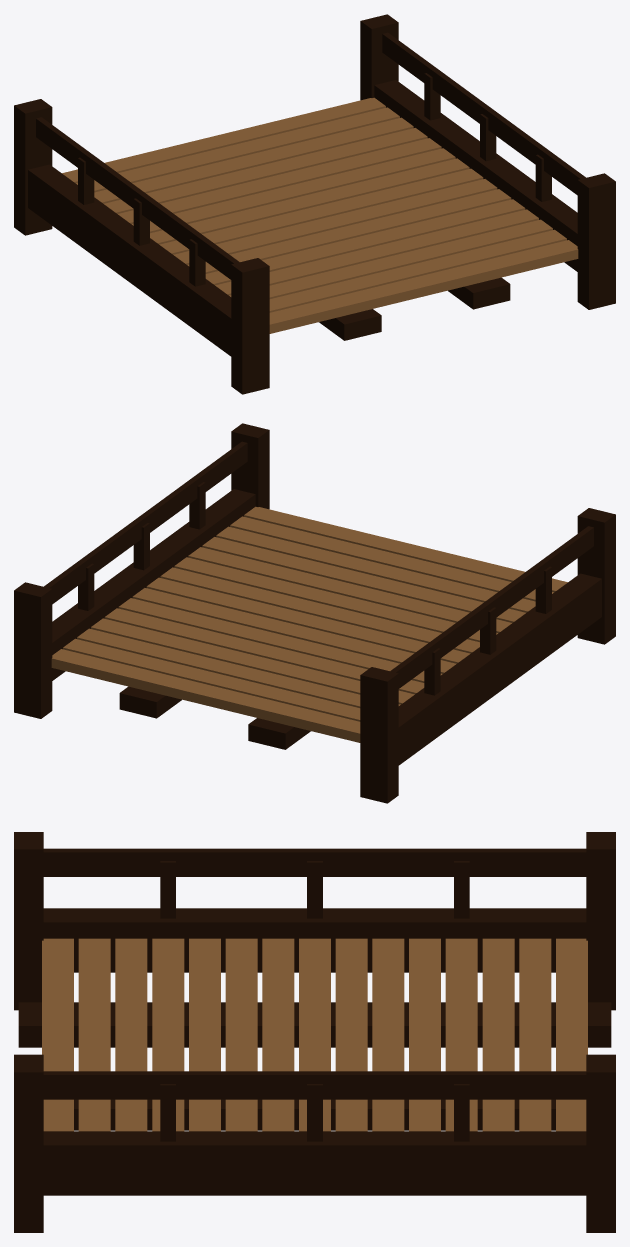
Rendered from Bridge.glb.
3 renders of one model, top to bottom at view 1: azimuth 30°, elevation 25°; view 2: azimuth 150°, elevation 25°; view 3: azimuth 270°, elevation 25°, orthographic. The views are drawn at different scales.
Visible parts, largest first — view 1: Cube, Cube.001; view 2: Cube, Cube.001; view 3: Cube.001, Cube.
Boxes of the visible parts, x1,y1,x2,y2 form: Cube: (62, 97, 578, 333); Cube.001: (14, 14, 615, 394); Cube: (51, 506, 567, 742); Cube.001: (14, 423, 615, 803); Cube.001: (14, 832, 615, 1232); Cube: (42, 938, 587, 1131).
Size of the model in its own units: 7.74 by 2.42 by 8.2.
